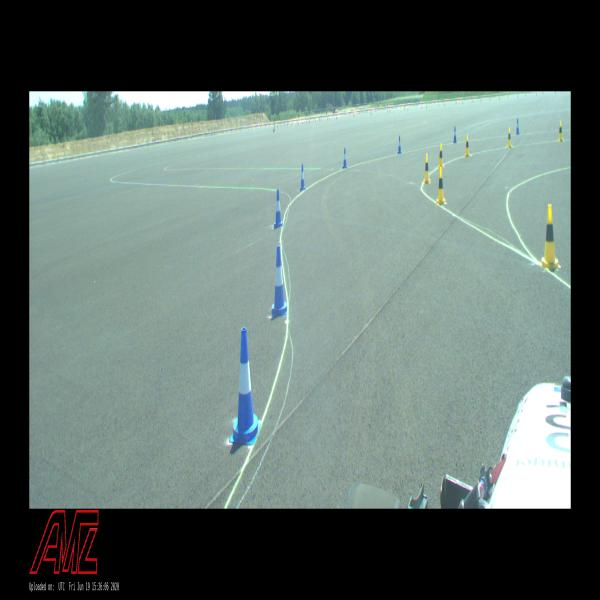blue_cone: (230, 328, 261, 444), (272, 246, 287, 316), (274, 189, 283, 228), (300, 164, 305, 190), (343, 148, 347, 168), (453, 126, 457, 143), (398, 136, 401, 153), (516, 118, 519, 134)
yellow_cone: (542, 205, 560, 268), (436, 168, 445, 203), (424, 154, 430, 183), (438, 144, 444, 168), (465, 135, 470, 156), (558, 121, 563, 141), (507, 128, 512, 147)
